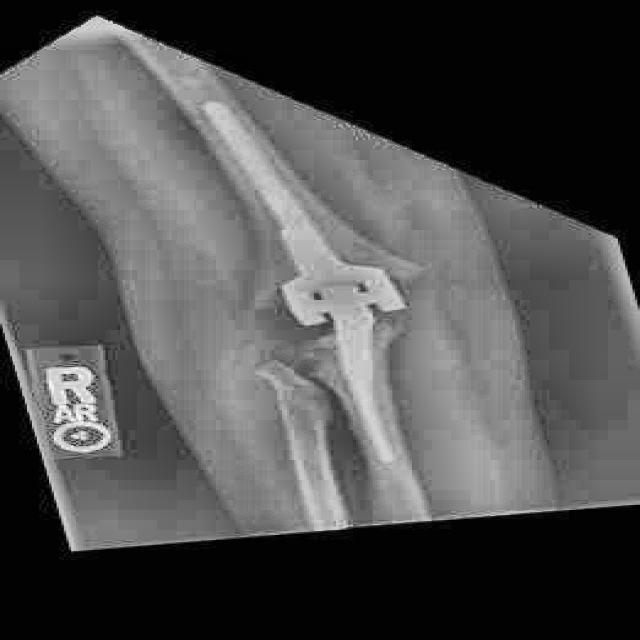elbow positive: (215, 333, 358, 417)
